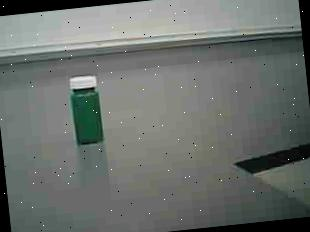Bottle C: (58, 67, 114, 147)
